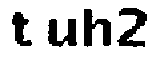2: (114, 5, 149, 51)
h: (82, 6, 112, 50)
t: (9, 8, 35, 52)
u: (45, 14, 78, 51)
